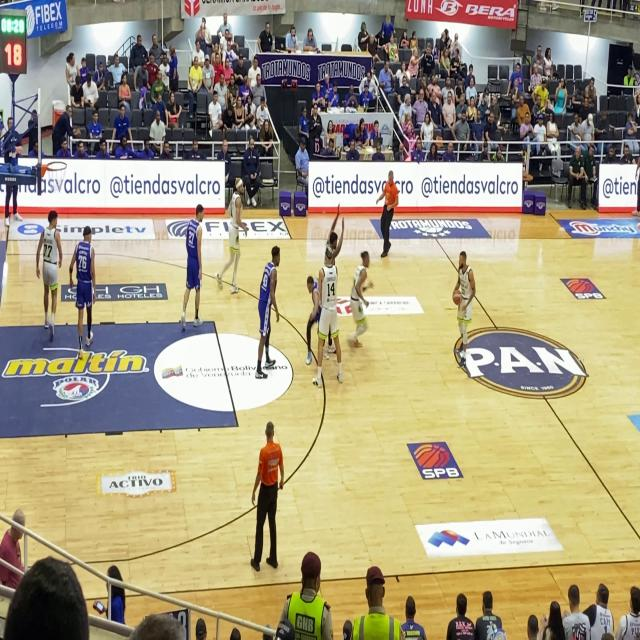Ball: (450, 282, 462, 310)
referee: (241, 412, 285, 579), (378, 164, 397, 265)
team1: (312, 242, 349, 392), (444, 244, 479, 387), (216, 175, 254, 303), (32, 200, 64, 348), (345, 241, 378, 377)
team2: (67, 217, 101, 365), (253, 239, 285, 386), (180, 198, 210, 333), (294, 261, 321, 376)
ubasket: (45, 158, 68, 197)
